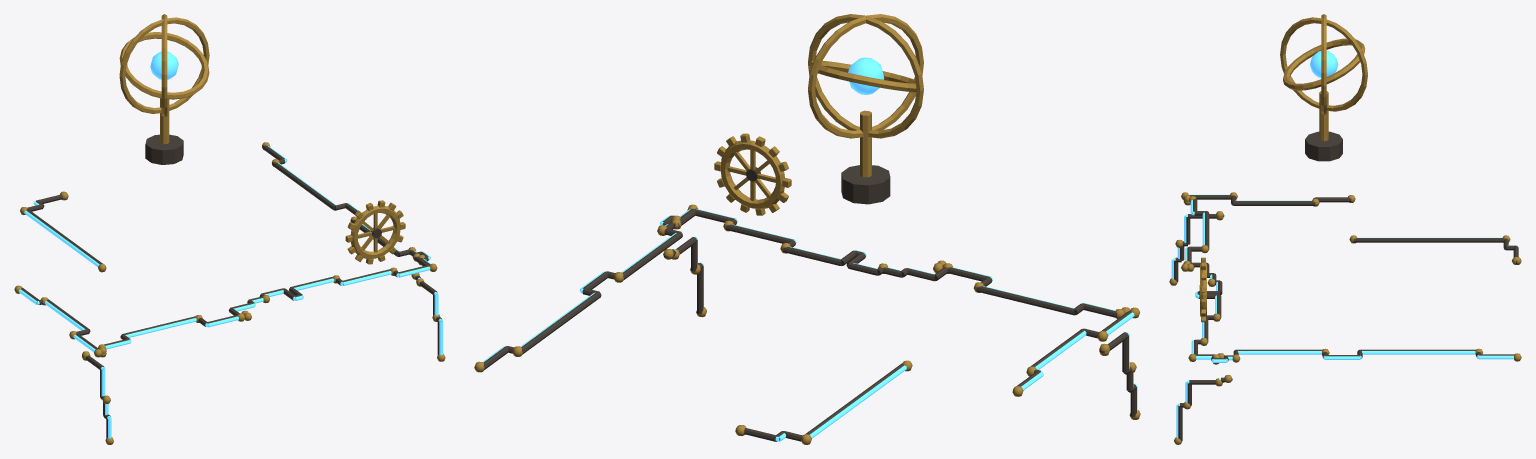
The model's file is conseil-dress.glb.
The picture shows the model from 3 angles, left to right: view 1: azimuth 30°, elevation 25°; view 2: azimuth 150°, elevation 25°; view 3: azimuth 270°, elevation 25°; orthographic projection. The views are drawn at different scales.
Parts seen in each view (by area): view 1: conseil-dress; view 2: conseil-dress; view 3: conseil-dress.
Part boxes in pixels (x1,y1,x2,y2): conseil-dress: [14, 14, 445, 444]; conseil-dress: [474, 14, 1140, 444]; conseil-dress: [1169, 14, 1521, 444].
Size of the model in its own units: 4 by 3.67 by 3.56.
